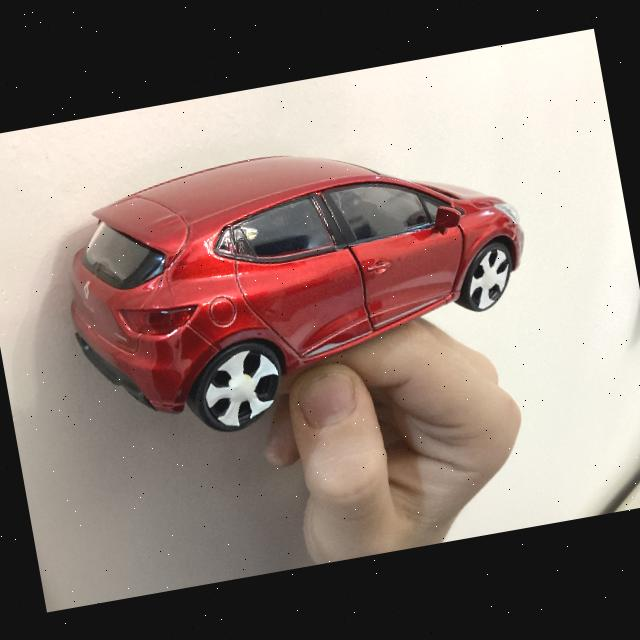Yanlis_Jant: (197, 345, 286, 430), (462, 245, 516, 311)
